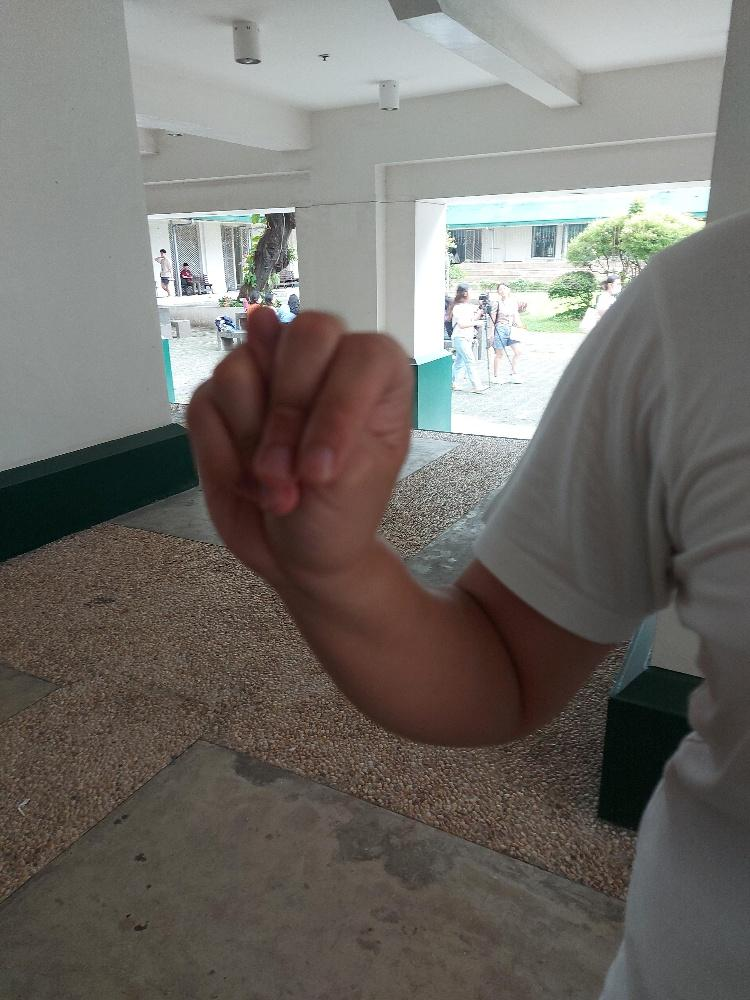n: (185, 301, 416, 572)
